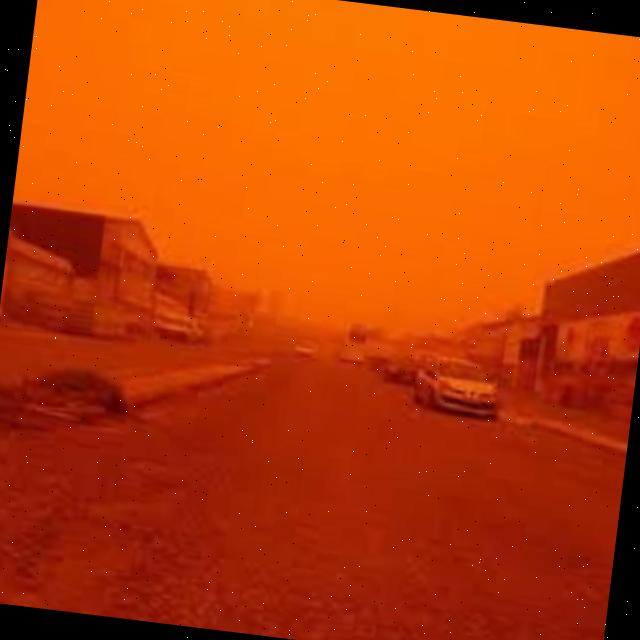car: (415, 352, 500, 412), (382, 351, 420, 386), (294, 338, 322, 364)
truck: (338, 321, 370, 366)
